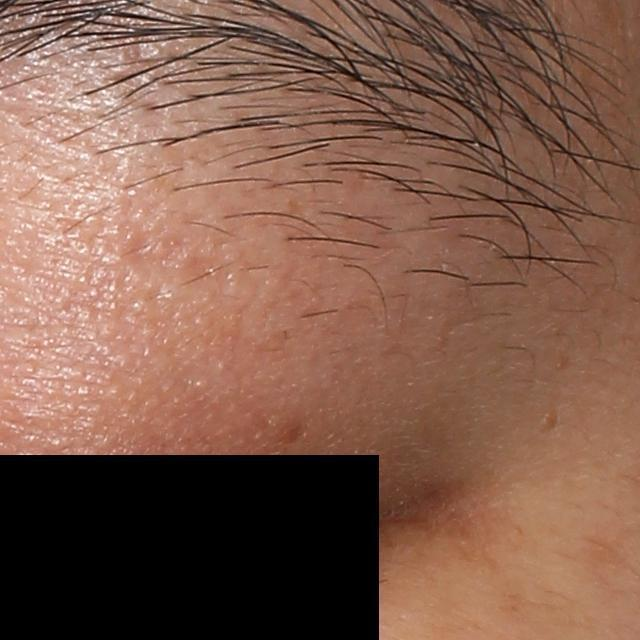melasma: (574, 533, 635, 583), (271, 413, 309, 453)
